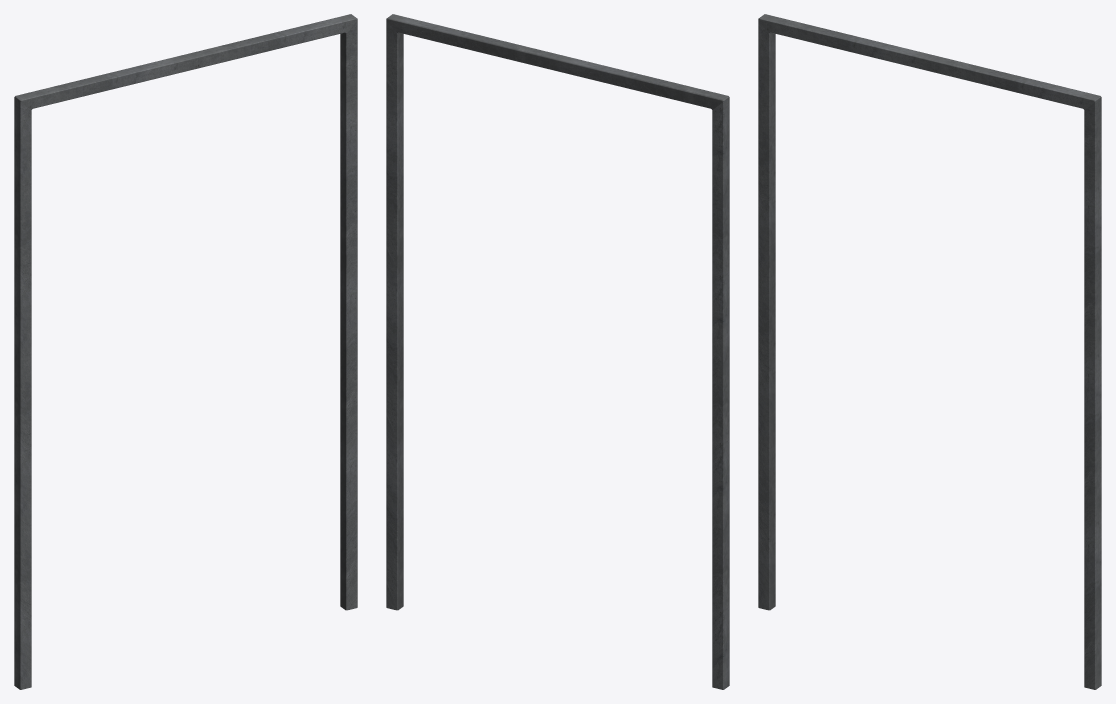
The model's file is Pen_01_Frame_Narrow.fbx.
3 renders of one model, left to right at view 1: azimuth 30°, elevation 25°; view 2: azimuth 150°, elevation 25°; view 3: azimuth 330°, elevation 25°, orthographic.
Visible parts, largest first — view 1: Pen_01_Frame_Narrow; view 2: Pen_01_Frame_Narrow; view 3: Pen_01_Frame_Narrow.
Part boxes in pixels (x1=…): Pen_01_Frame_Narrow: x1=14, y1=14, x2=357, y2=689; Pen_01_Frame_Narrow: x1=386, y1=14, x2=729, y2=689; Pen_01_Frame_Narrow: x1=758, y1=14, x2=1101, y2=689.
Size of the model in its own units: 150 by 250 by 5.
